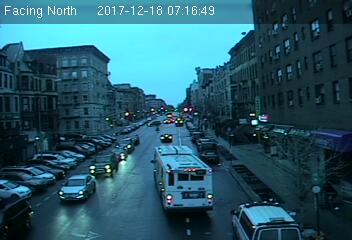bus: (154, 146, 214, 216)
car: (58, 173, 95, 200), (90, 153, 119, 177), (110, 146, 128, 159), (159, 134, 173, 140)
police: (231, 198, 299, 240)
